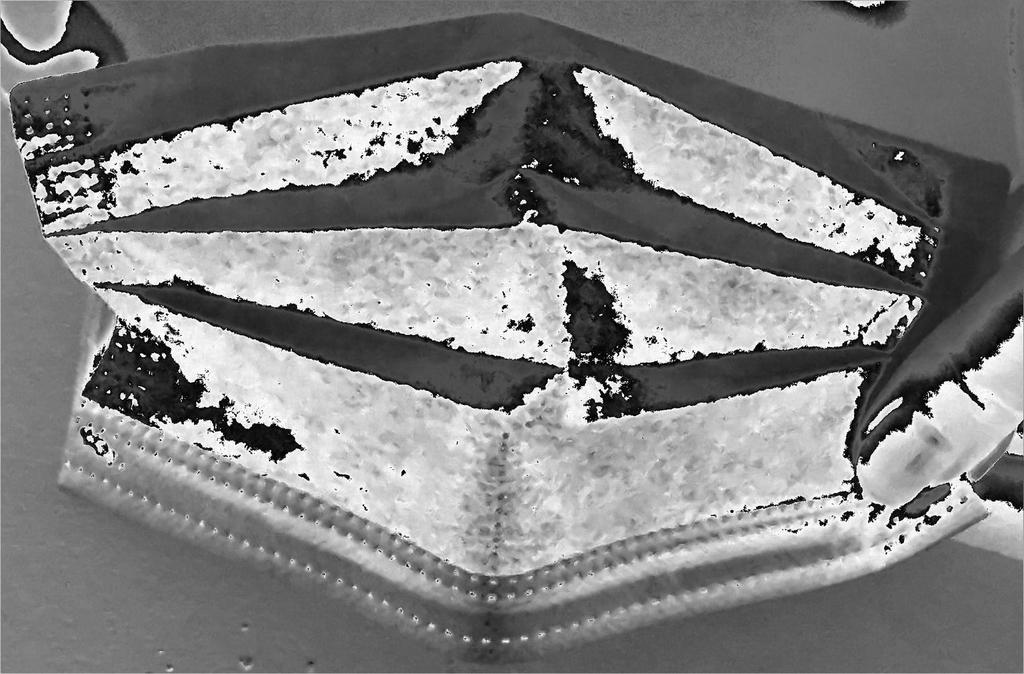High GSM: (126, 59, 846, 520)
